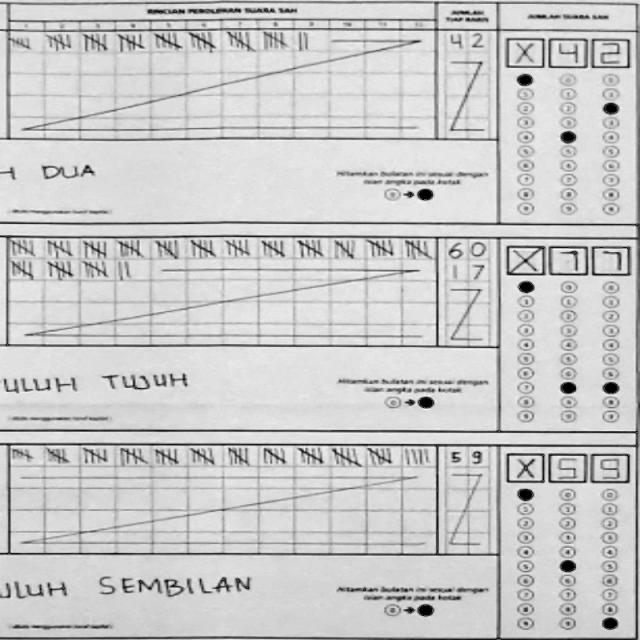Suara: (499, 28, 632, 70), (502, 446, 632, 486), (504, 240, 634, 278)
